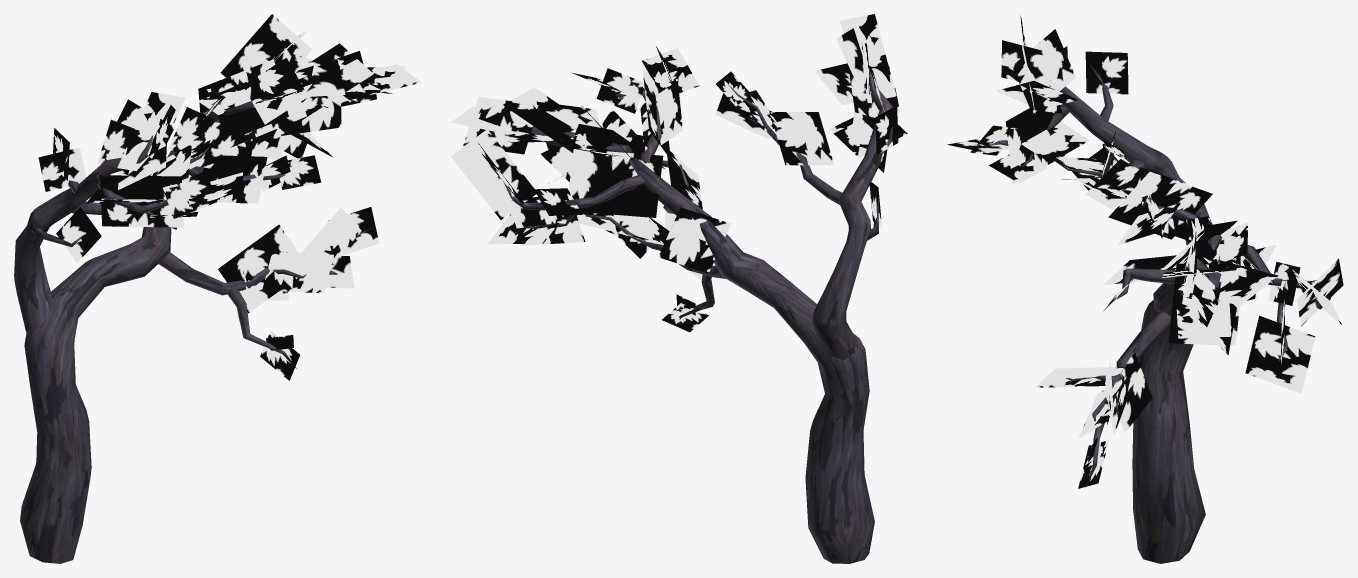
Rendered from P_TreeWindswept02.obj.
3 renders of one model, left to right at view 1: azimuth 30°, elevation 25°; view 2: azimuth 150°, elevation 25°; view 3: azimuth 270°, elevation 25°, orthographic. The views are drawn at different scales.
Size of the model in its own units: 10.29 by 11.79 by 7.6.
